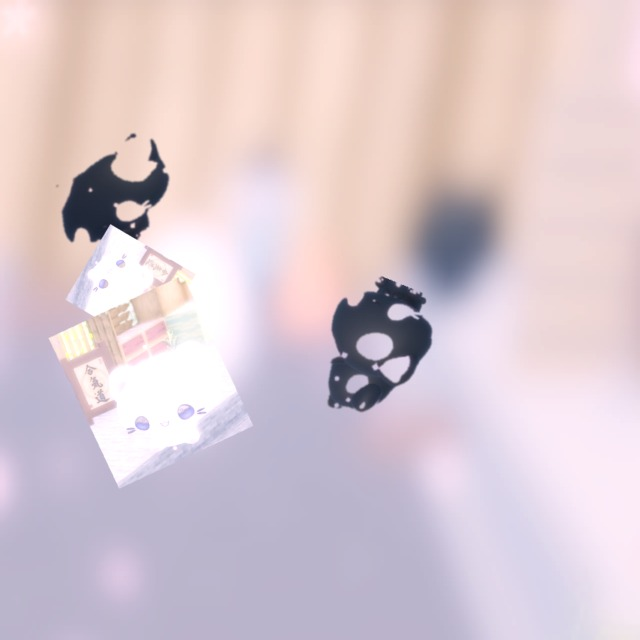urso_branco: (48, 275, 254, 489), (65, 224, 196, 350)
urso_preto: (15, 97, 217, 297), (287, 261, 453, 444)
